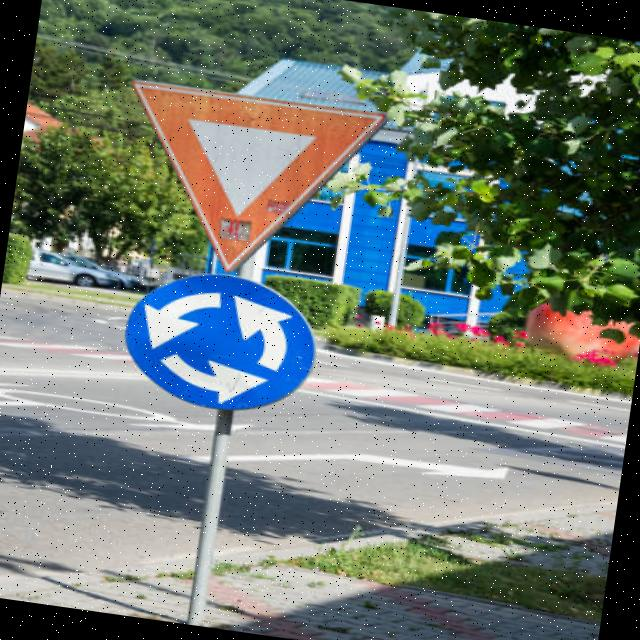give_way: (95, 66, 416, 290)
